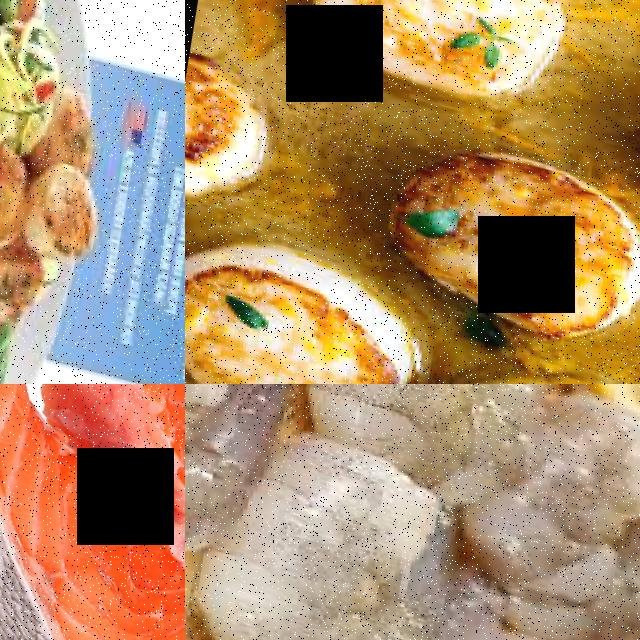salmon: (0, 384, 185, 640)
sea scallops: (21, 154, 104, 264)
spinach: (374, 120, 640, 349), (224, 435, 462, 640), (185, 222, 426, 384), (500, 402, 640, 640), (301, 0, 575, 113), (338, 384, 559, 491), (185, 384, 287, 580), (416, 597, 640, 640)
